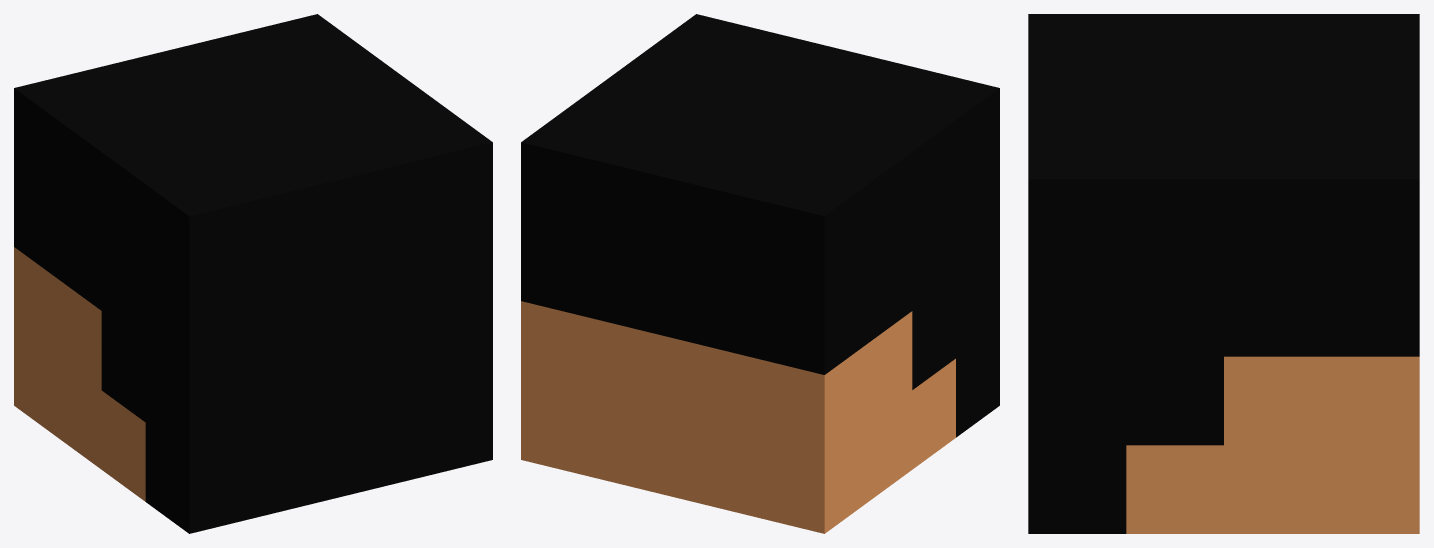
File: PlayerHead.fbx
The picture shows the model from 3 angles, left to right: view 1: azimuth 30°, elevation 25°; view 2: azimuth 150°, elevation 25°; view 3: azimuth 270°, elevation 25°; orthographic projection. The views are drawn at different scales.
Parts seen in each view (by area): view 1: Head; view 2: Head; view 3: Head.
Boxes of the visible parts, x1,y1,x2,y2 form: Head: (14,14,492,533); Head: (521,14,999,533); Head: (1028,14,1419,533).
Bounding box in the file's own units: 0.3 × 0.3 × 0.3.
